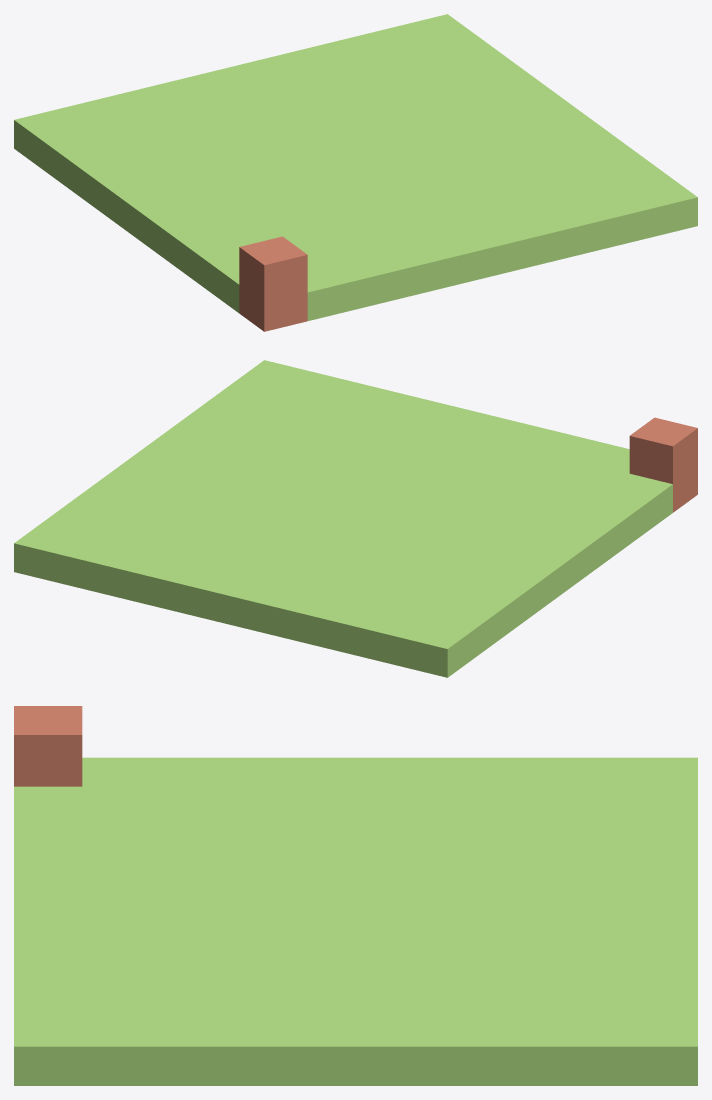
Rendered from Inner_corner_01.glb.
The picture shows the model from 3 angles, top to bottom: view 1: azimuth 30°, elevation 25°; view 2: azimuth 150°, elevation 25°; view 3: azimuth 270°, elevation 25°; orthographic projection. The views are drawn at different scales.
Parts seen in each view (by area): view 1: Mesh1 Inner_corner Model; view 2: Mesh1 Inner_corner Model; view 3: Mesh1 Inner_corner Model.
Part boxes in pixels (x1=…): Mesh1 Inner_corner Model: x1=14, y1=14, x2=697, y2=331; Mesh1 Inner_corner Model: x1=14, y1=360, x2=697, y2=677; Mesh1 Inner_corner Model: x1=14, y1=706, x2=697, y2=1085.
Size of the model in its own units: 3 by 0.44 by 3.
